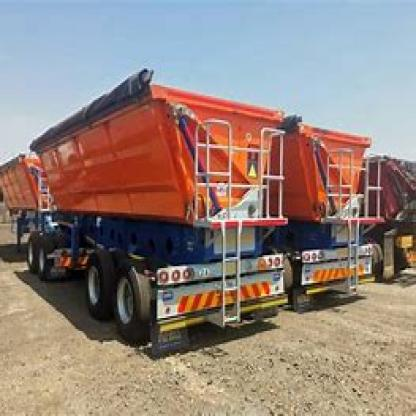dump_truck: (14, 72, 288, 340), (291, 107, 376, 318)
